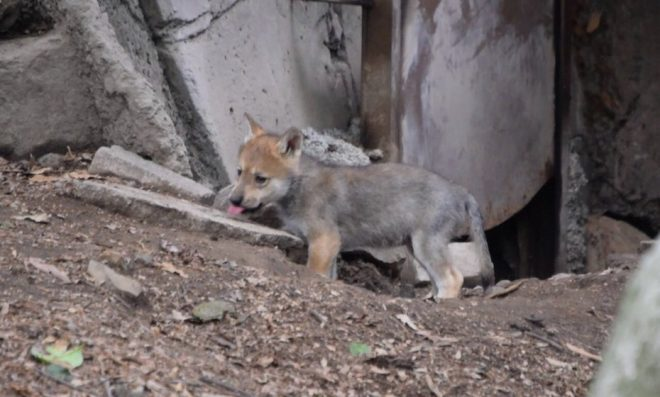Lobo: (213, 116, 518, 302)
